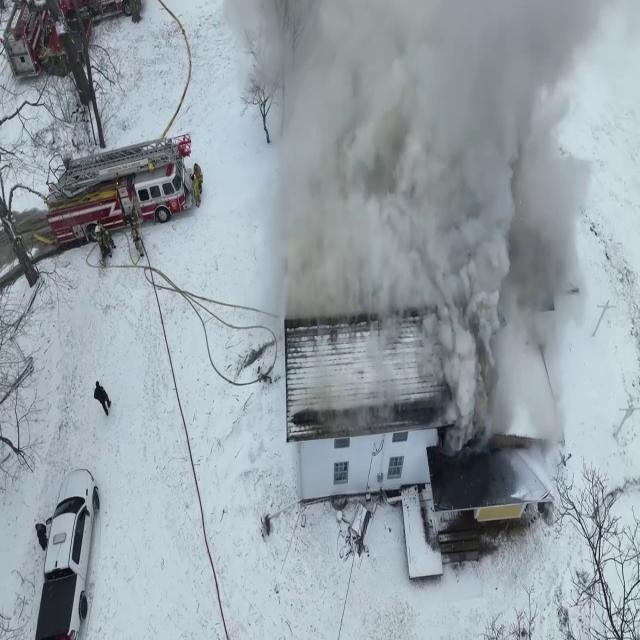Smoke: (249, 1, 633, 448)
